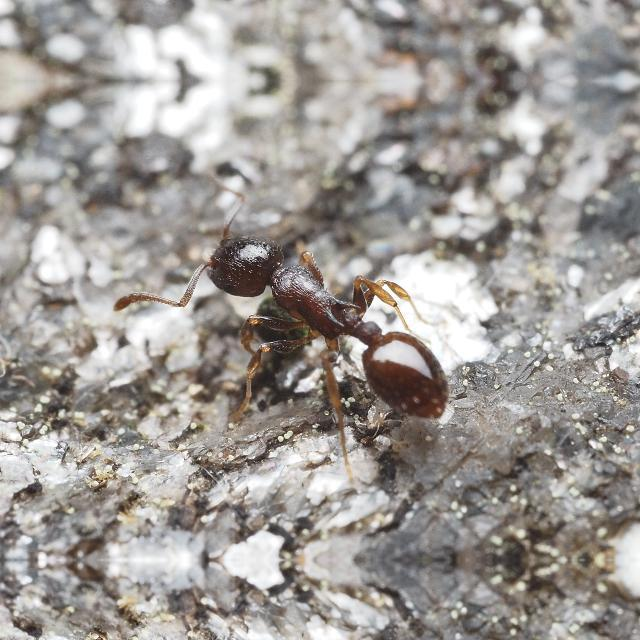Temnothorax: (163, 194, 504, 440)
